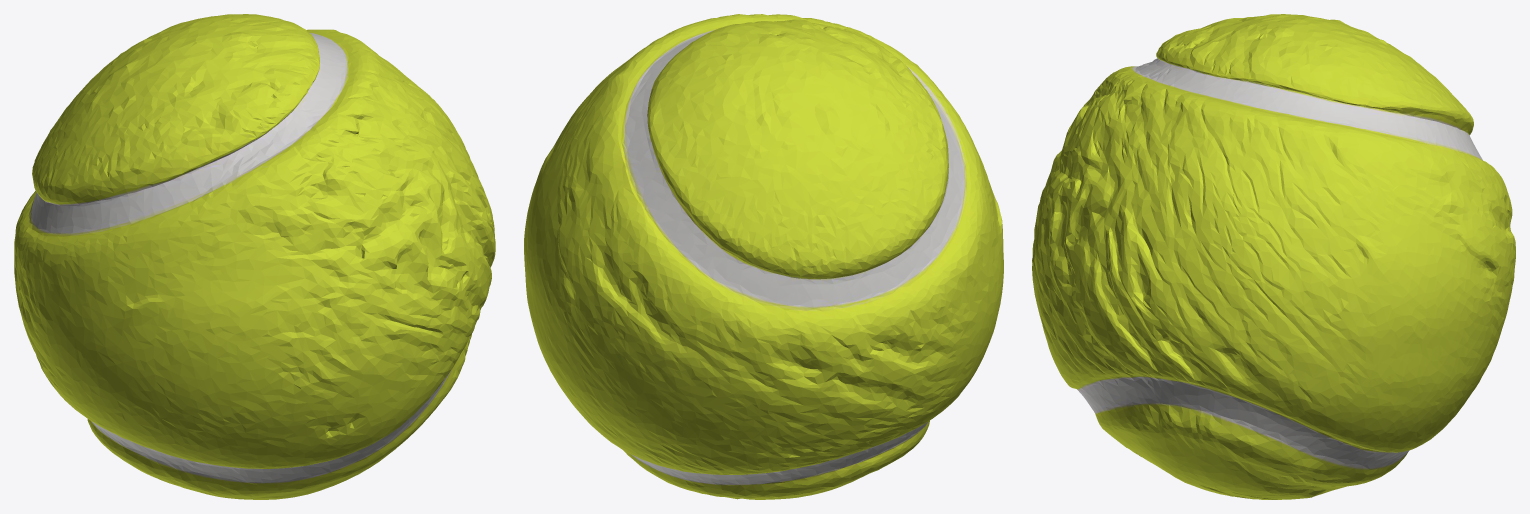
The model's file is toy_5.glb.
3 renders of one model, left to right at view 1: azimuth 30°, elevation 25°; view 2: azimuth 150°, elevation 25°; view 3: azimuth 270°, elevation 25°, orthographic.
Visible parts, largest first — view 1: tripo_node_7b9bc675-a082-450c-9475-4753668e39aa; view 2: tripo_node_7b9bc675-a082-450c-9475-4753668e39aa; view 3: tripo_node_7b9bc675-a082-450c-9475-4753668e39aa.
Boxes of the visible parts, x1,y1,x2,y2 form: tripo_node_7b9bc675-a082-450c-9475-4753668e39aa: (14, 14, 495, 499); tripo_node_7b9bc675-a082-450c-9475-4753668e39aa: (524, 14, 1003, 499); tripo_node_7b9bc675-a082-450c-9475-4753668e39aa: (1032, 14, 1515, 499).
Size of the model in its own units: 0.9832 by 1 by 0.9907.
1 material, 1 textured.
